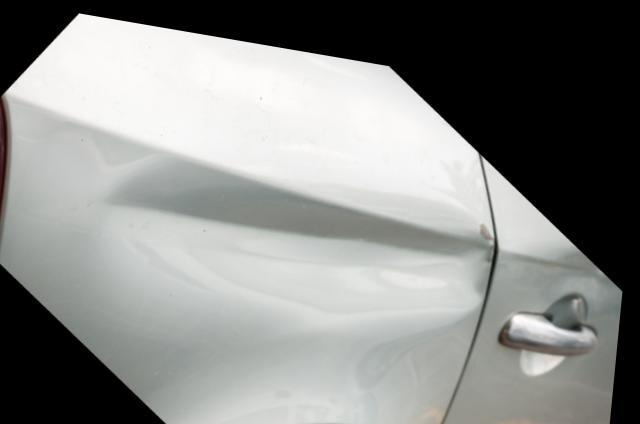dent: (117, 157, 496, 314)
